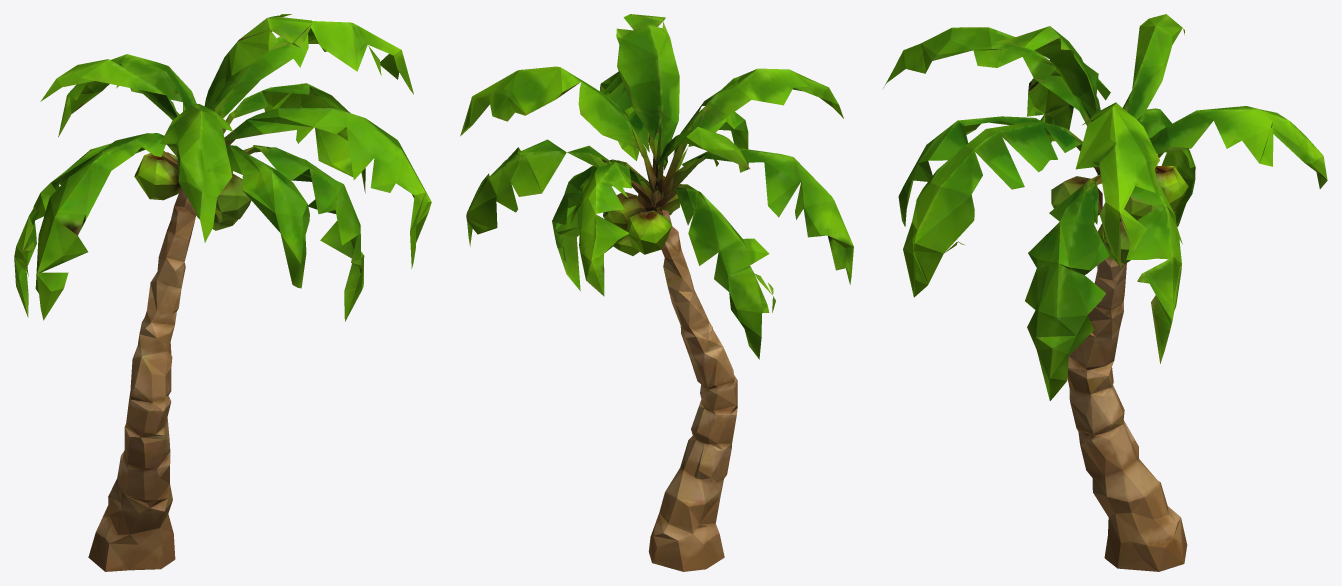
File: palm-a.tex.glb
3 views of the same model, side by side, from view 1: azimuth 30°, elevation 25°; view 2: azimuth 150°, elevation 25°; view 3: azimuth 270°, elevation 25° (orthographic). The views are drawn at different scales.
Visible parts, largest first — view 1: palm-a; view 2: palm-a; view 3: palm-a.
Boxes of the visible parts, <box> form: palm-a: <box>14,14,431,571</box>; palm-a: <box>460,14,853,571</box>; palm-a: <box>883,14,1327,571</box>.
Bounding box in the file's own units: 7.07 × 9 × 6.34.
1 material, 1 textured.
